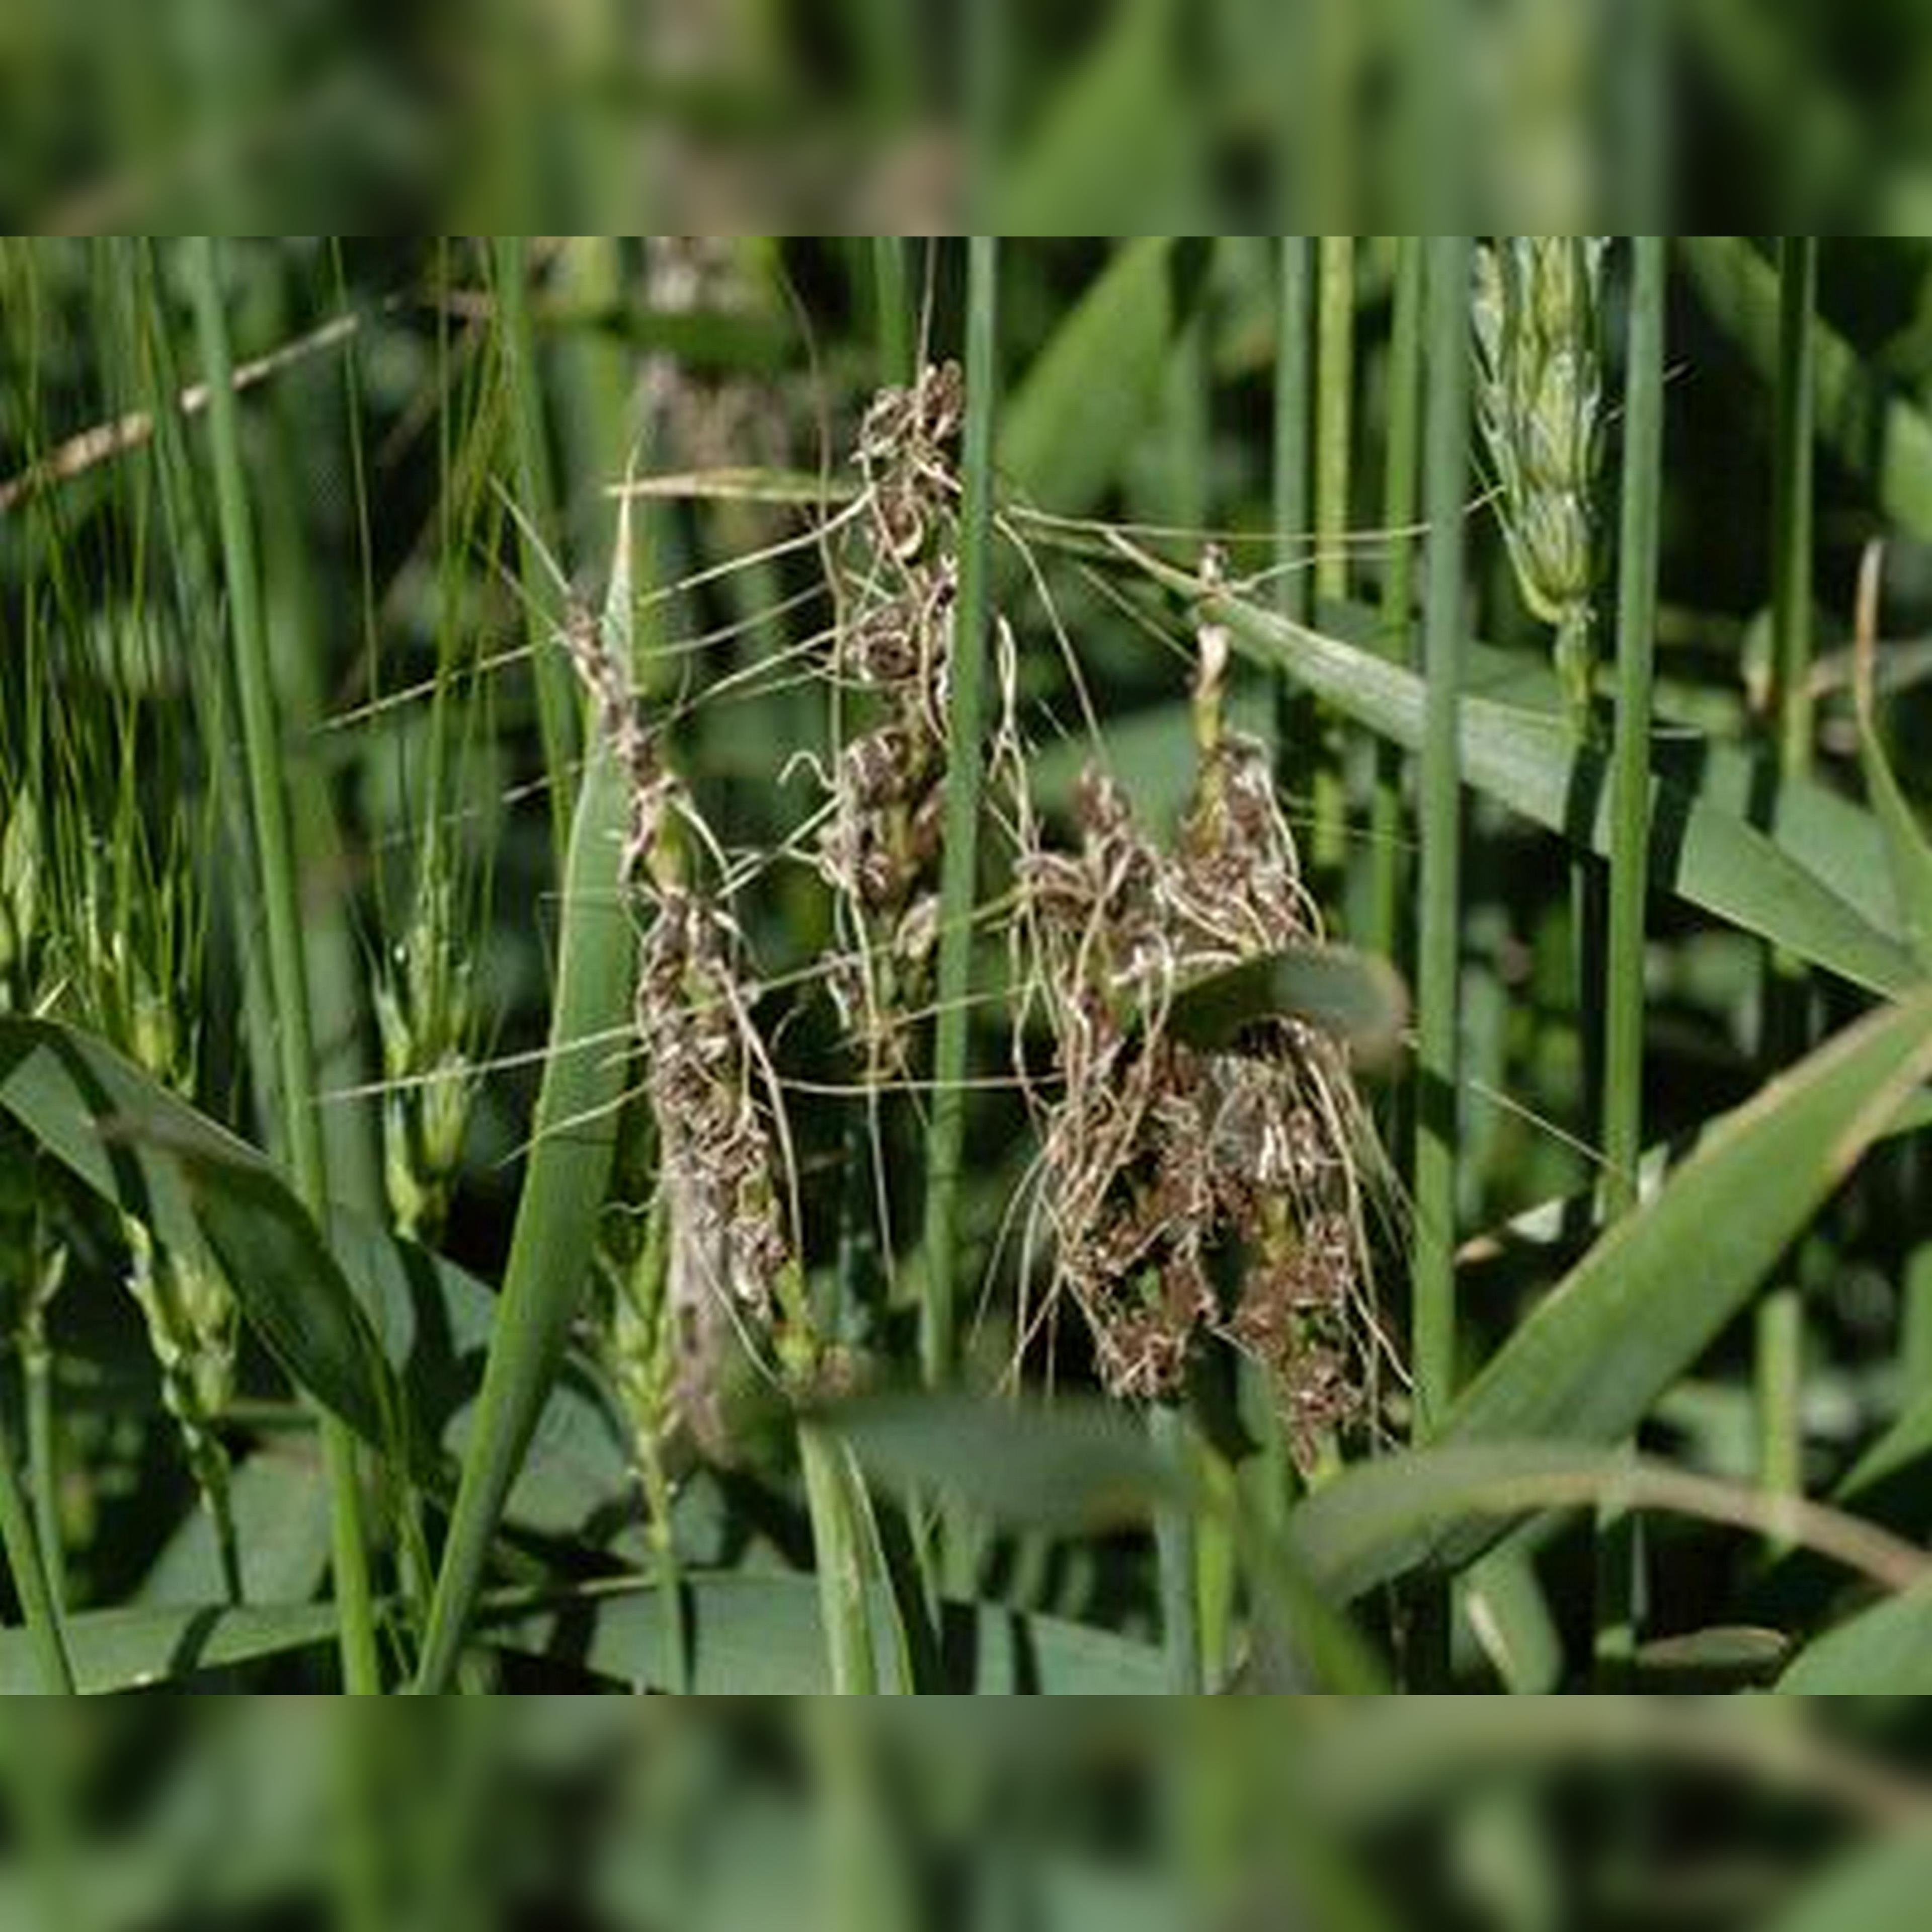Wheat Loose Smut: (527, 430, 1417, 1433)
